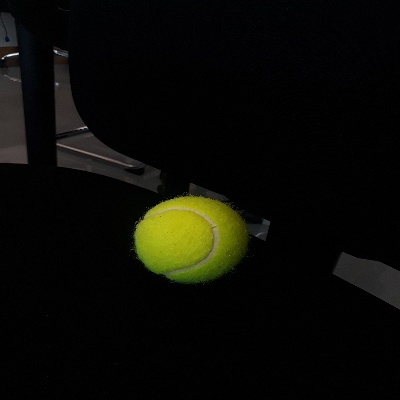Ball: (135, 195, 249, 283)
